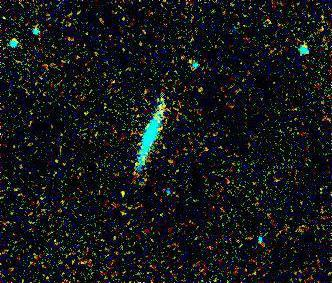star: (111, 174, 141, 204)
